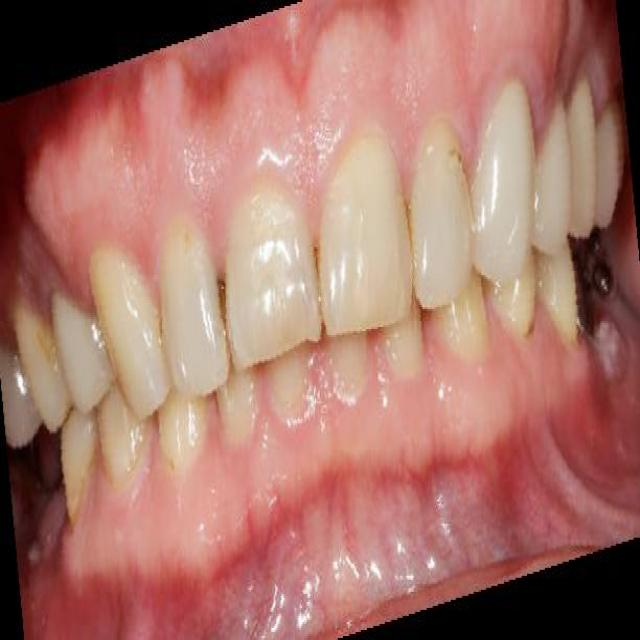caries: (573, 239, 620, 340), (204, 268, 234, 332)
